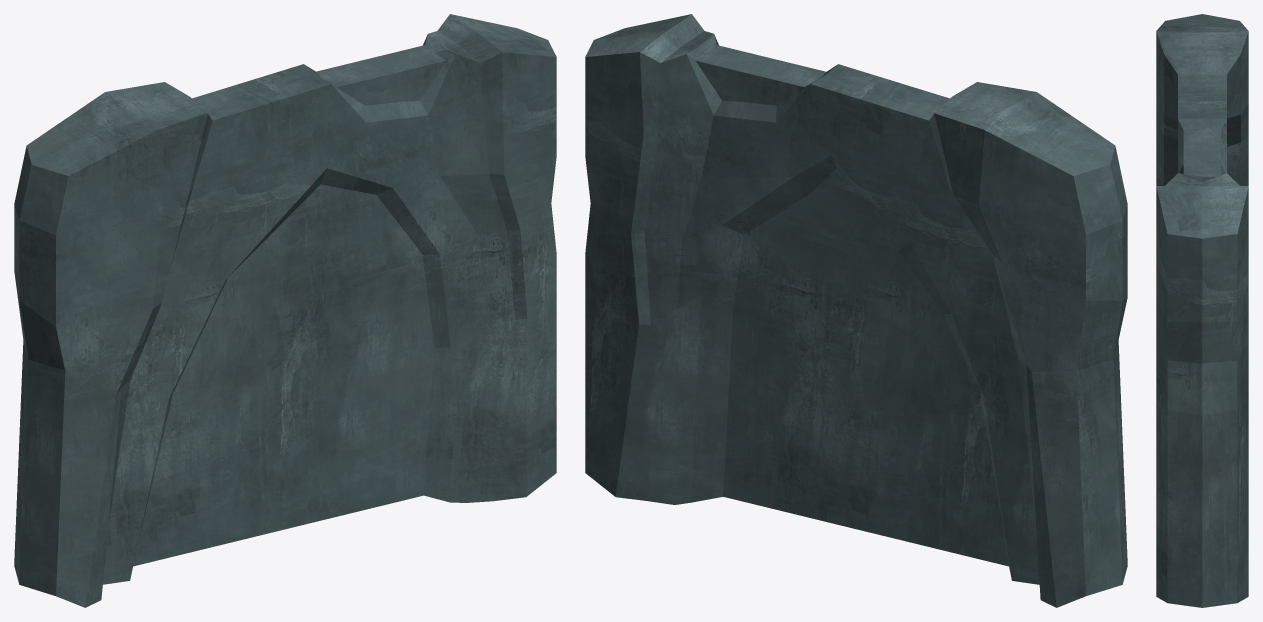
File: RockWall_2.fbx
3 renders of one model, left to right at view 1: azimuth 30°, elevation 25°; view 2: azimuth 150°, elevation 25°; view 3: azimuth 270°, elevation 25°, orthographic. The views are drawn at different scales.
Visible parts, largest first — view 1: polySurface8; view 2: polySurface8; view 3: polySurface8.
Boxes of the visible parts, left/top/right/bottom form: polySurface8: left=14, top=14, right=556, bottom=607; polySurface8: left=585, top=14, right=1127, bottom=607; polySurface8: left=1156, top=14, right=1248, bottom=607.
Bounding box in the file's own units: 18 × 14.97 × 3.07.
